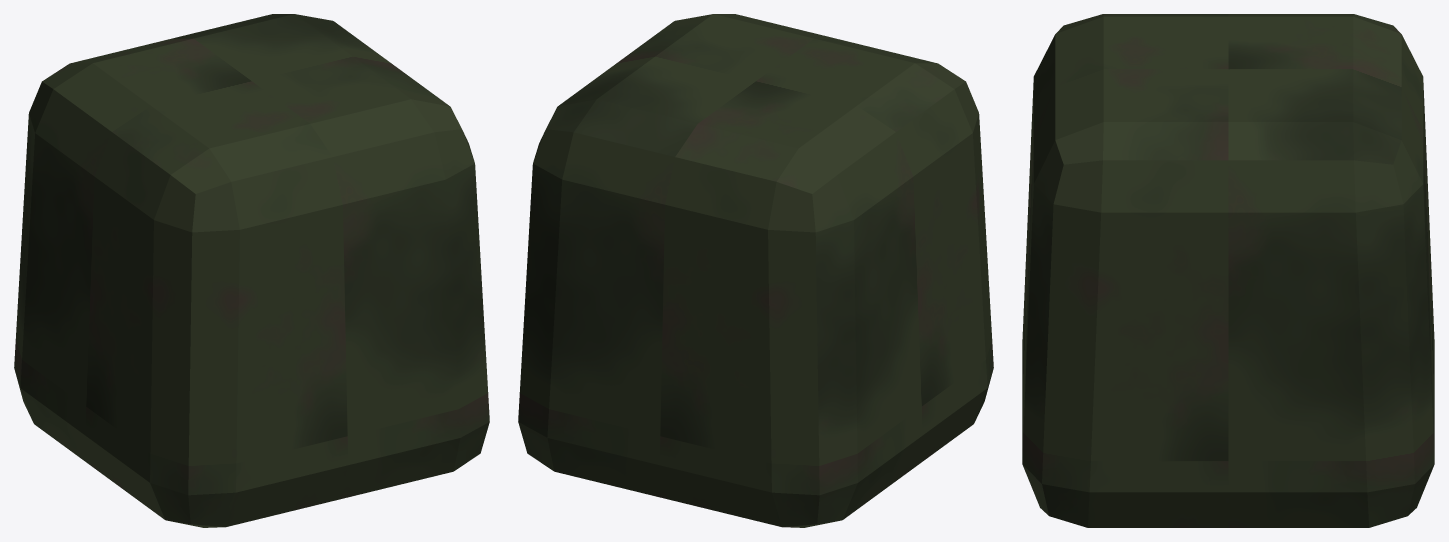
File: Zombie_Neck.obj
The picture shows the model from 3 angles, left to right: view 1: azimuth 30°, elevation 25°; view 2: azimuth 150°, elevation 25°; view 3: azimuth 270°, elevation 25°; orthographic projection. The views are drawn at different scales.
Bounding box in the file's own units: 0.1225 × 0.13 × 0.1225.
Materials: 1 (1 with a texture image).
